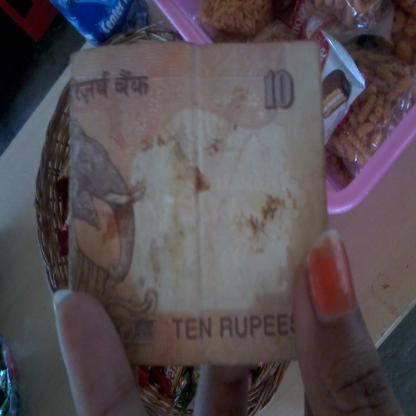Old10Back: (67, 39, 329, 367)
